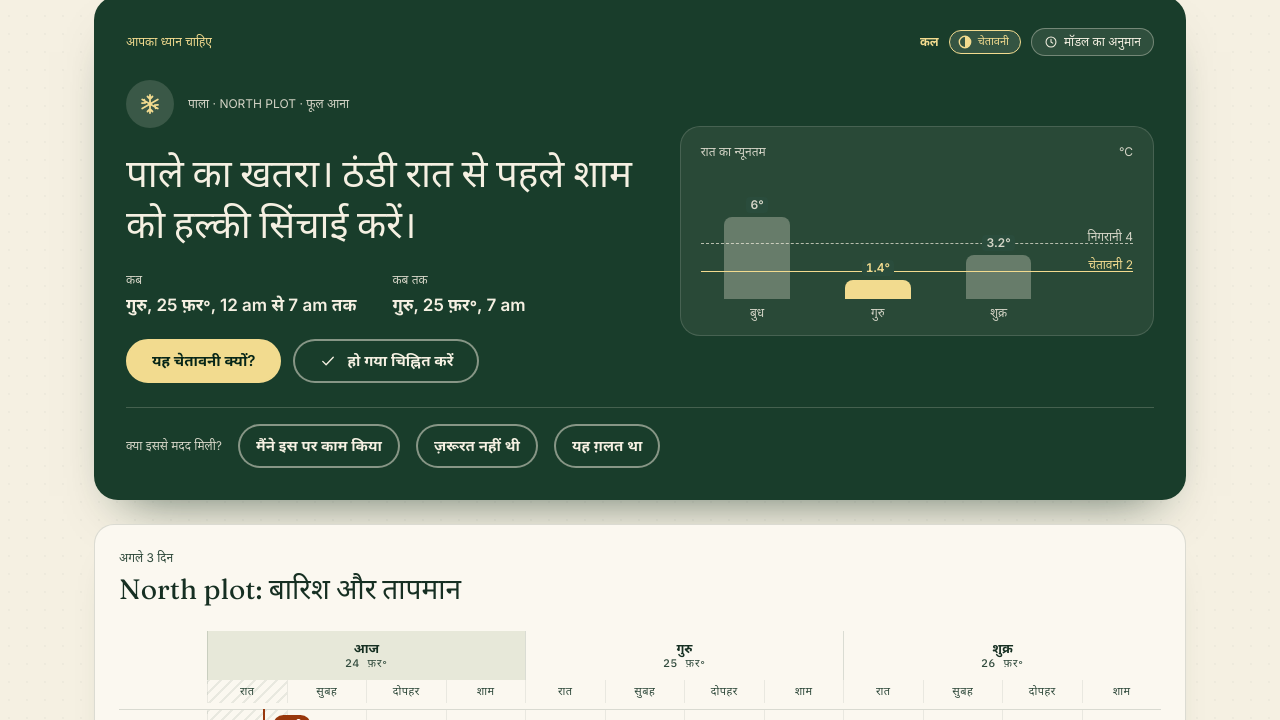
Scenario: Weather & Alerts states › Hindi: the alert, the level and the numbers come out in Hindi
The image size is (1280, 720).
(page scrolled)
expect the heading "पाले का खतरा। ठंडी रात से पहले शाम को हल्की सिंचाई करें।" is shown: met, box [126,148,648,251]
expect the text "चेतावनी" is shown: met, box [949,30,1021,54]
Click the button "यह चेतावनी क्यों?" at (204, 361), box [126,339,282,383]
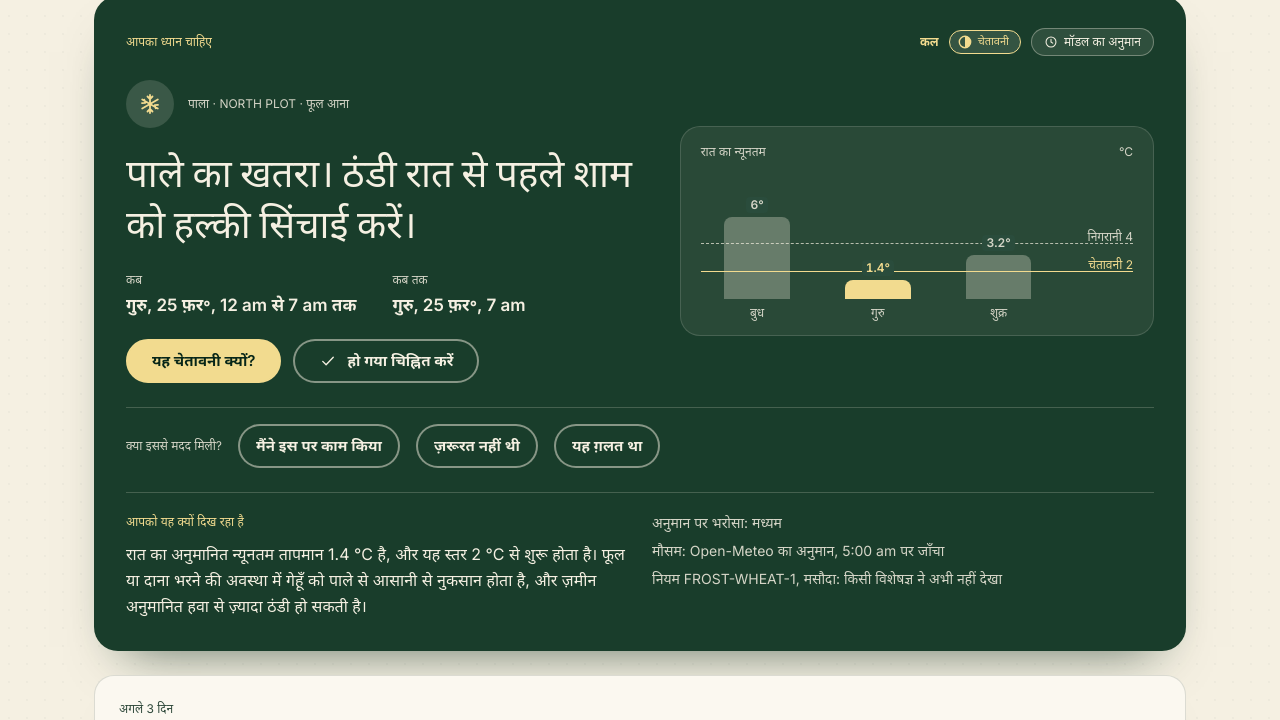
expect the text "न्यूनतम तापमान 1.4 °C" is shown: met, box [126,544,625,616]
